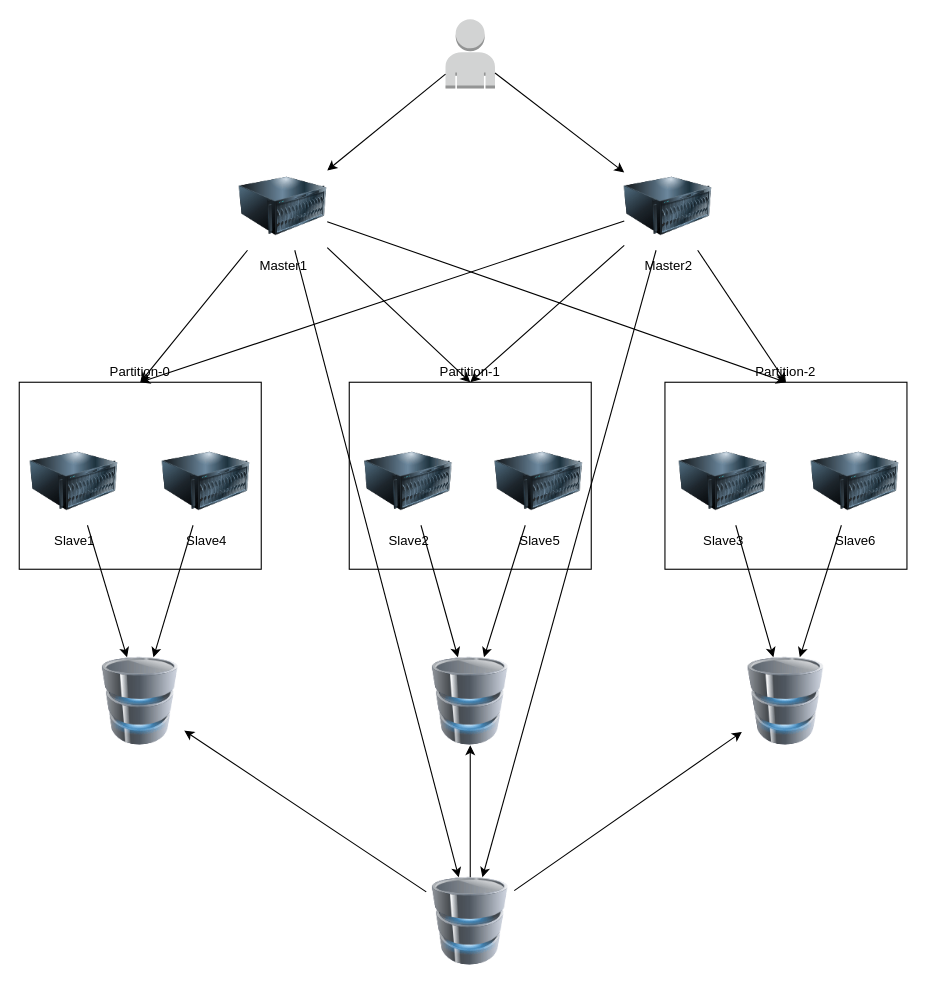
Some shapes in this 926 by 1008 pixel diagram are drawn without their labels. Each missing label, with the centre of its shape:
"Router" belongs at pixel 470 921.
"Sharding-0" belongs at pixel 140 701.
"Sharding-1" belongs at pixel 470 701.
"Sharding-2" belongs at pixel 785 701.
